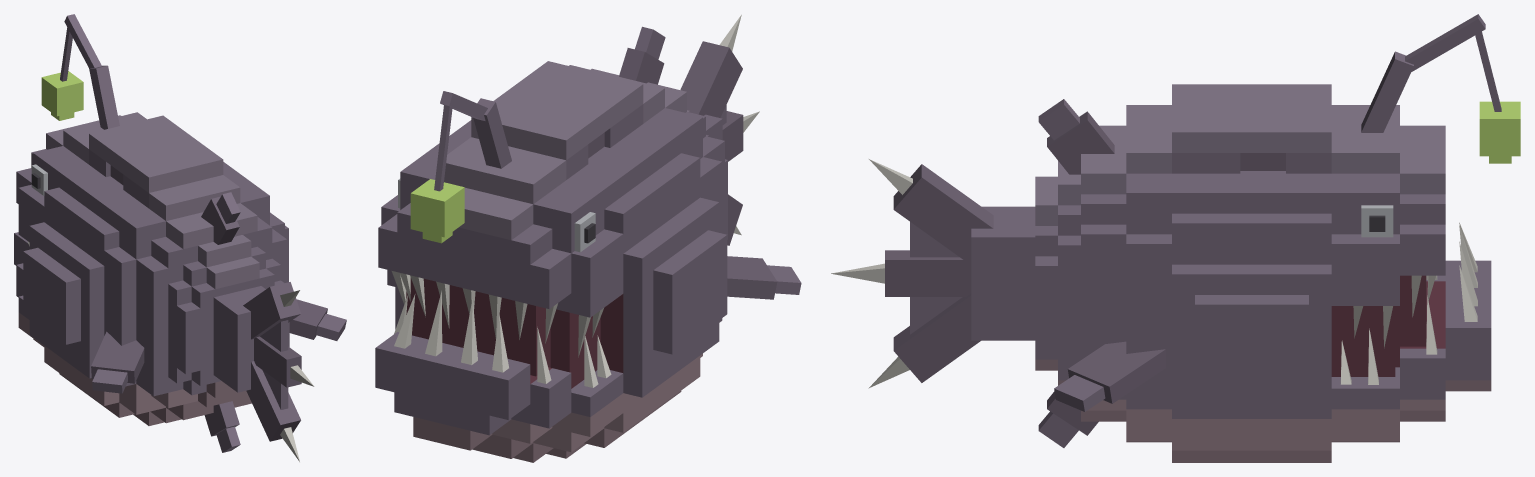
The model's file is Anglerfish.glb.
3 views of the same model, side by side, from view 1: azimuth 30°, elevation 25°; view 2: azimuth 150°, elevation 25°; view 3: azimuth 270°, elevation 25° (orthographic). The views are drawn at different scales.
Parts seen in each view (by area): view 1: Body, B3, Tail, B2, FinL, Lure_Glow, FinR, Rod1, Jaw, Rod2, Lure; view 2: Body, Jaw, Tail, B2, B3, Lure_Glow, FinL, Rod1, Lure, Rod2; view 3: Body, B3, Tail, Jaw, B2, FinR, Lure_Glow, Rod1, Rod2.
Boxes of the visible parts, box(x1,y1,x2,y2) form: Body: box(16, 112, 288, 425); B3: box(136, 192, 289, 452); Tail: box(213, 282, 314, 461); B2: box(104, 175, 284, 423); FinL: box(91, 331, 144, 393); Lure_Glow: box(41, 71, 83, 120); FinR: box(289, 299, 346, 340); Rod1: box(89, 65, 119, 129); Jaw: box(14, 232, 44, 346); Rod2: box(64, 14, 101, 68); Lure: box(60, 27, 72, 81); Body: box(378, 61, 727, 458); Jaw: box(375, 290, 623, 462); Tail: box(680, 14, 759, 245); B2: box(569, 65, 722, 357); B3: box(591, 26, 727, 239); Lure_Glow: box(410, 179, 464, 243); FinL: box(727, 256, 801, 299); Rod1: box(473, 98, 511, 168); Lure: box(434, 105, 452, 191); Rod2: box(440, 91, 487, 120); Body: box(1172, 84, 1445, 462); B3: box(1035, 99, 1126, 447); Tail: box(831, 159, 1035, 388); Jaw: box(1331, 222, 1491, 442); B2: box(1126, 105, 1171, 442); FinR: box(1054, 341, 1165, 411); Lure_Glow: box(1479, 101, 1520, 163); Rod1: box(1361, 51, 1413, 132); Rod2: box(1405, 14, 1485, 71).
Size of the model in its own units: 9.95 by 12.05 by 17.57.
